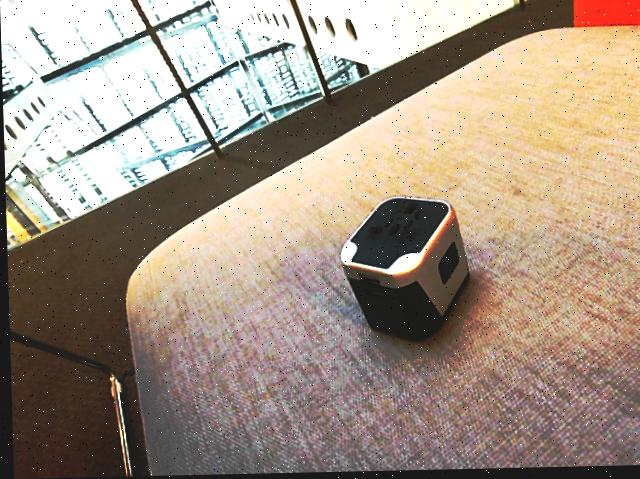adapter: (336, 196, 469, 344)
